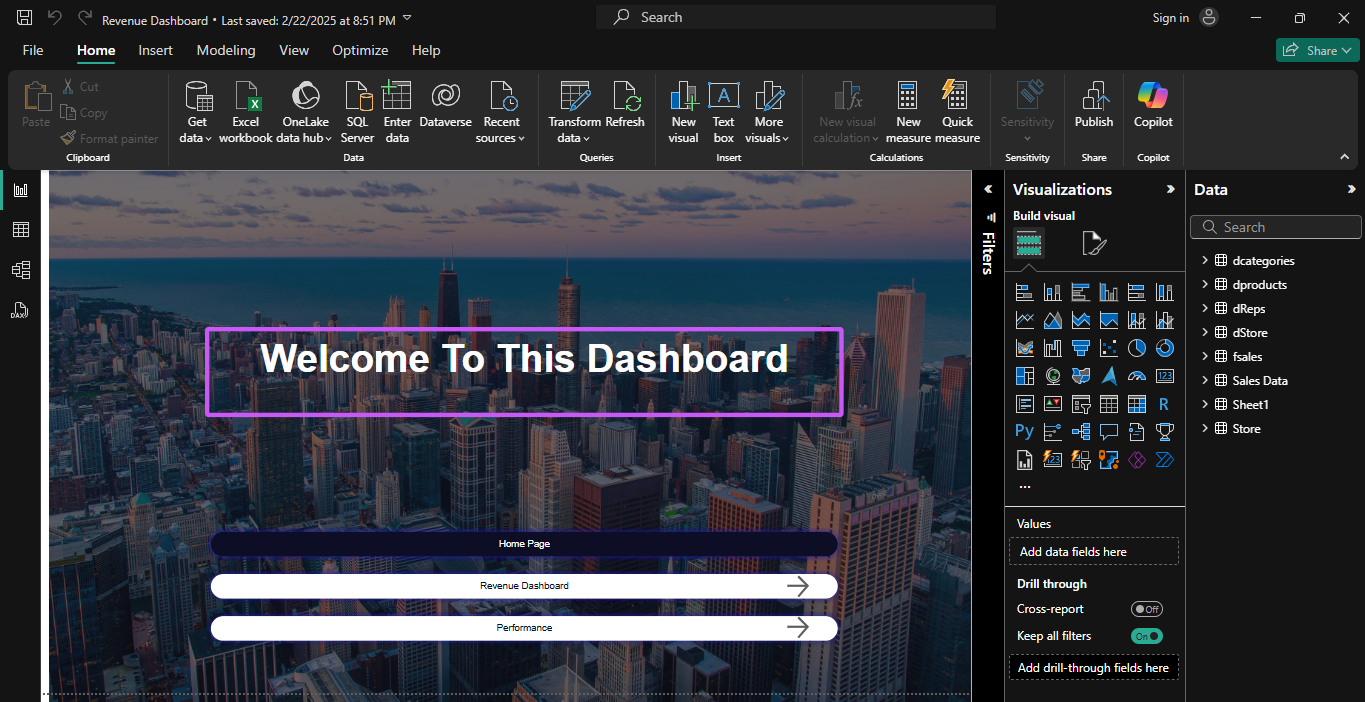

The dashboard page shown, as its layout file describes it:
{"tool":"powerbi","page":{"name":"Home Page","canvas":[1280,720],"ordinal":0},"visuals":[{"type":"textbox","box":[225.7,216.1,879.5,123.9],"z":0},{"type":"pageNavigator","box":[225.7,490,879.5,166.5],"z":1000},{"type":"actionButton","box":[1021.2,553.3,100.5,39.9],"z":2000},{"type":"actionButton","box":[1021.2,609.7,100.5,39.9],"z":3000}]}

Visuals, with their boxes on the page's 1280x720 design canvas (x1, y1, x2, y2). These are canvas units, not pixel positions in the 1365x702 screenshot, which may show the page scaled, cropped or inside an application window:
textbox: 226/216/1105/340
pageNavigator: 226/490/1105/656
actionButton: 1021/553/1122/593
actionButton: 1021/610/1122/650
